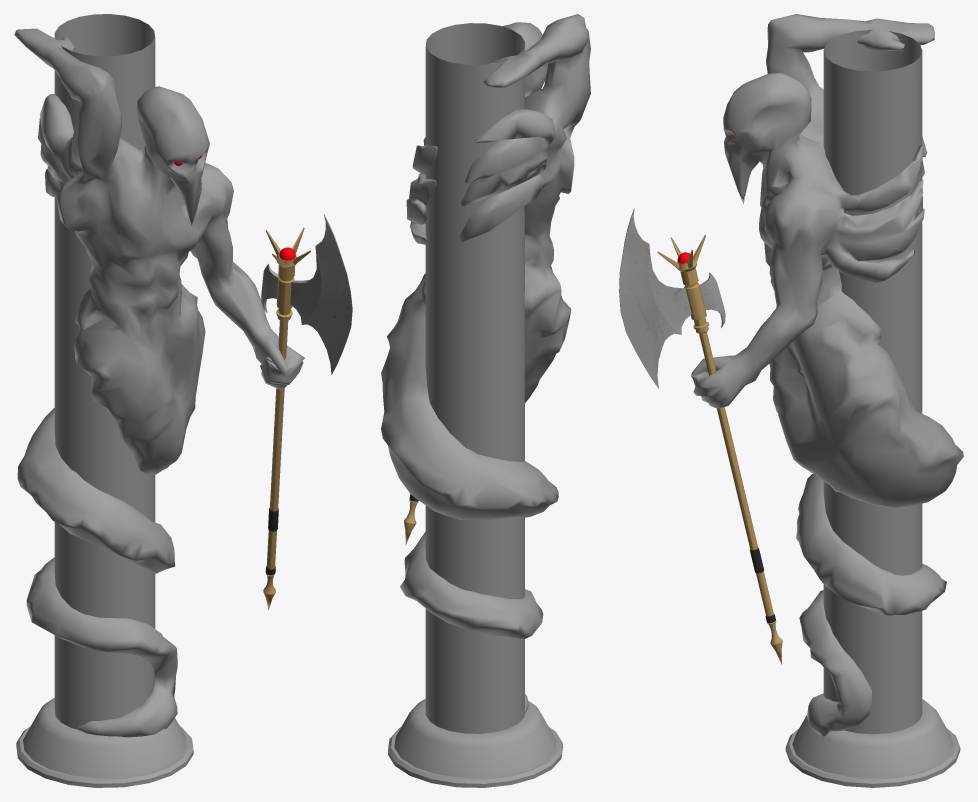
The model's file is SM_LowPoly_Trap_Pillar_01.fbx.
3 views of the same model, side by side, from view 1: azimuth 30°, elevation 25°; view 2: azimuth 150°, elevation 25°; view 3: azimuth 270°, elevation 25° (orthographic). The views are drawn at different scales.
Visible parts, largest first — view 1: PM3D_Sphere3D1_3; view 2: PM3D_Sphere3D1_3; view 3: PM3D_Sphere3D1_3.
Part boxes in pixels (x1,y1,x2,y2): PM3D_Sphere3D1_3: (14, 14, 352, 787); PM3D_Sphere3D1_3: (381, 14, 590, 787); PM3D_Sphere3D1_3: (619, 14, 963, 787).
Bounding box in the file's own units: 145 × 507 × 223.
